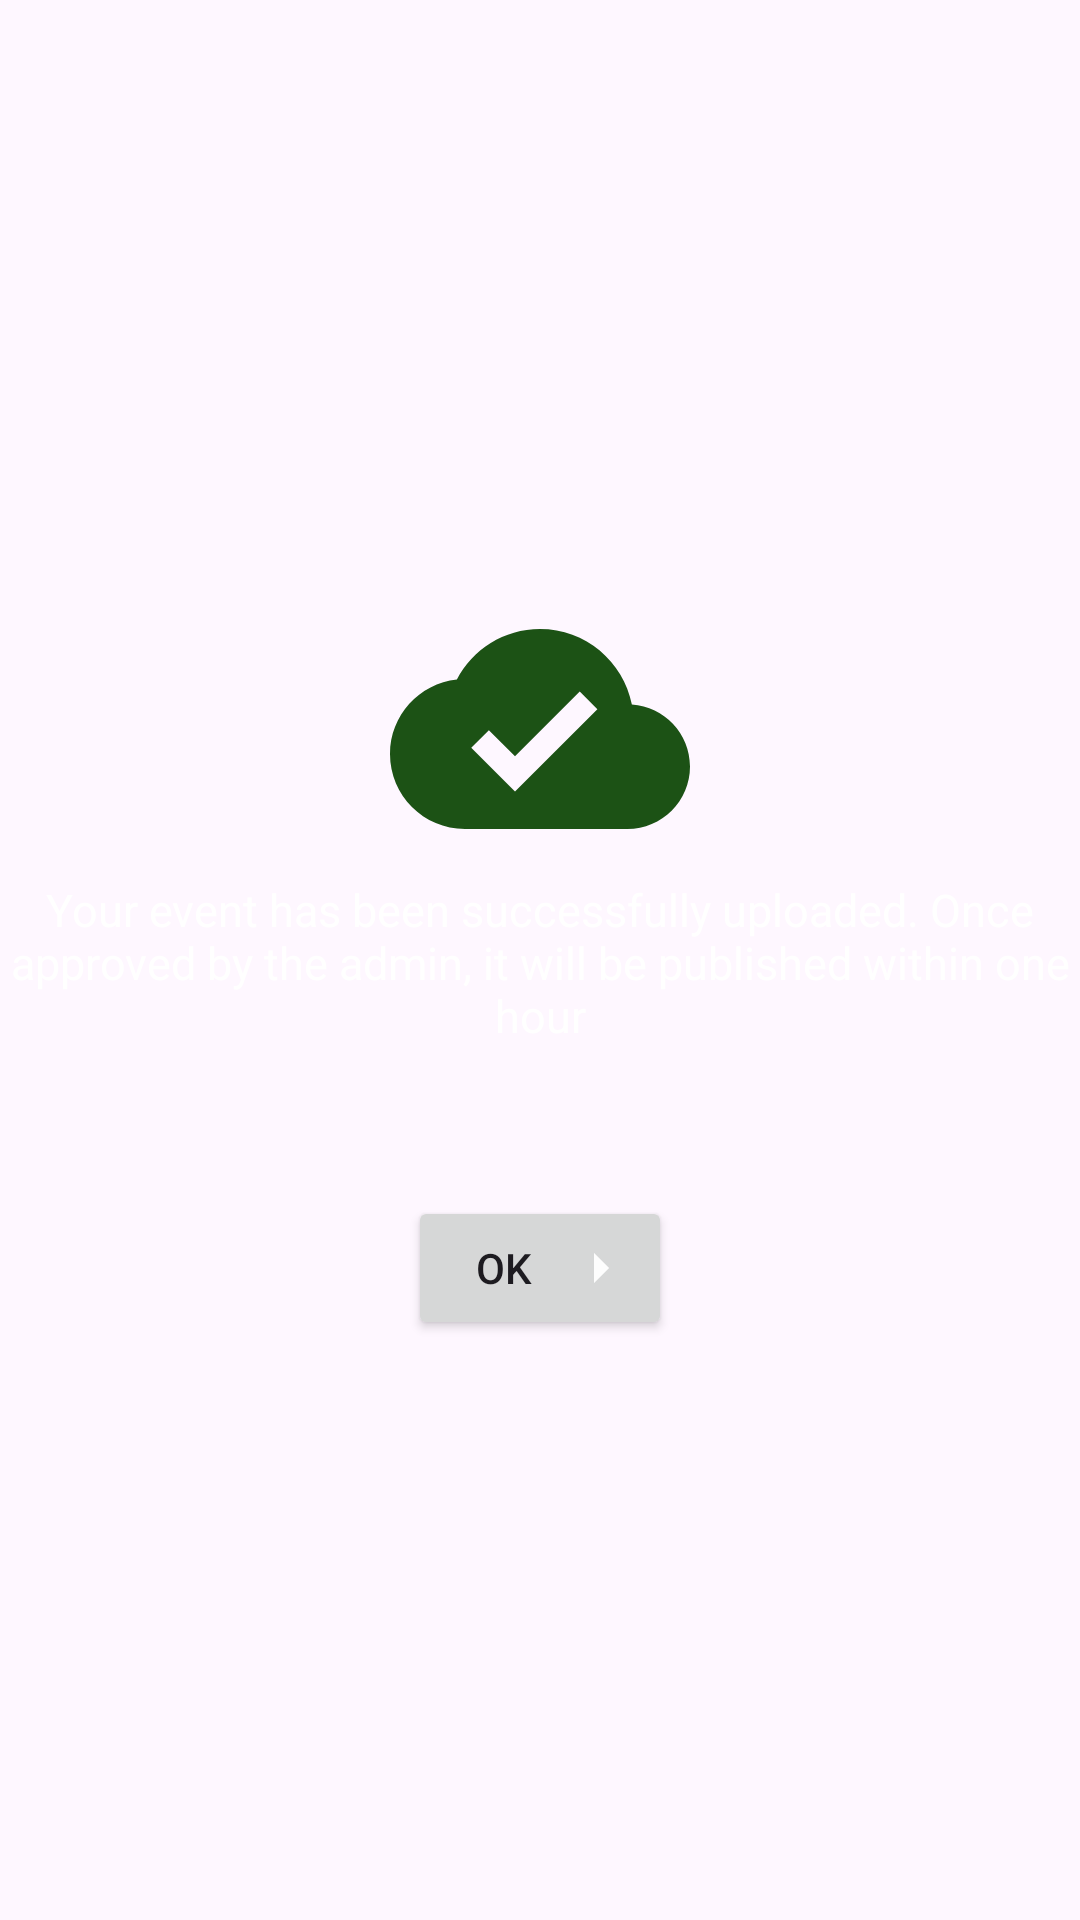

Where icons sit on this 1080 × 1920 app screen, as (x1, y1, x2, y2):
done upload: (390, 629, 690, 829)
